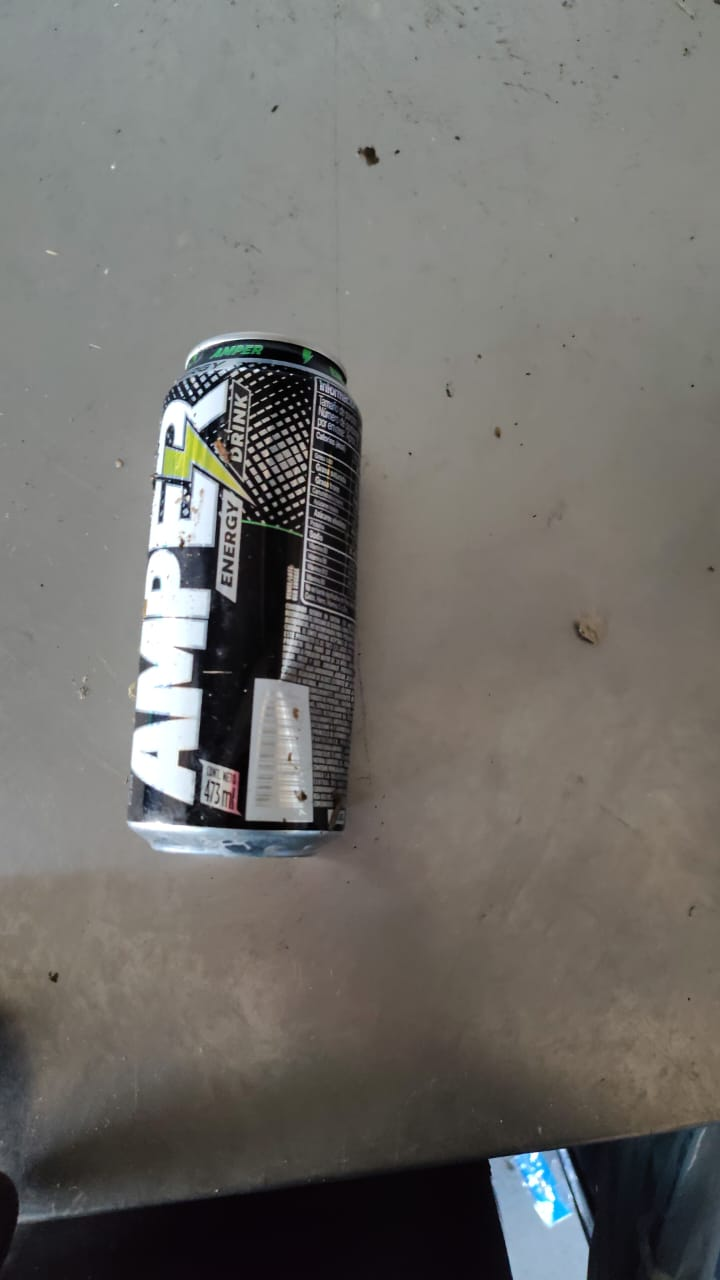Metal: (127, 336, 359, 859)
